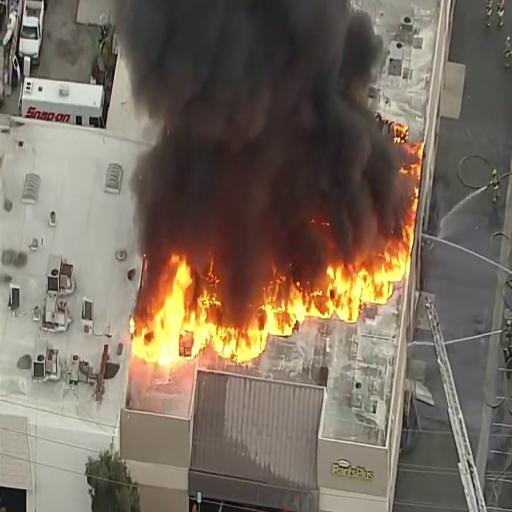fire: (123, 260, 213, 368), (210, 286, 300, 358), (299, 262, 387, 326)
smoke: (130, 0, 355, 233)
